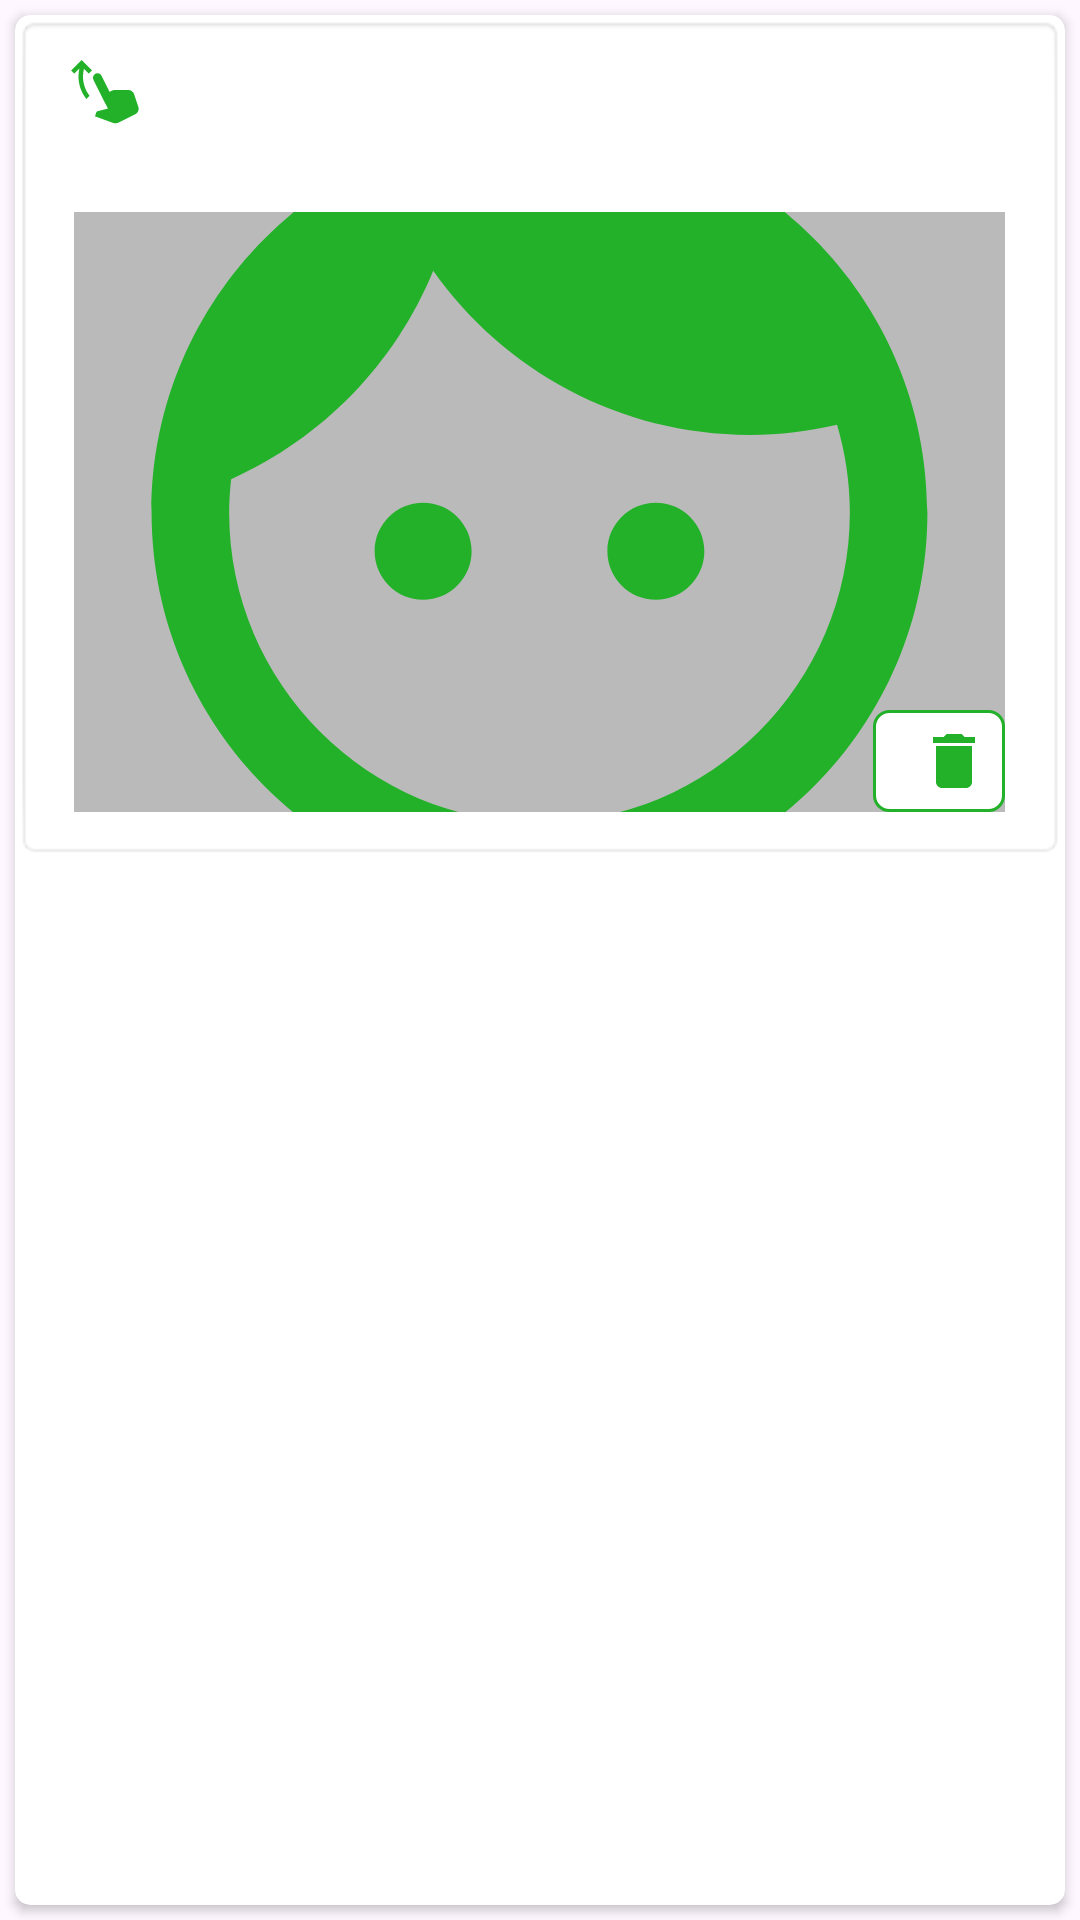

Where to tap for icons on this 1080w x 1920h app screen, as point (x, y):
delete: point (954, 761)
swipe: point (105, 92)
